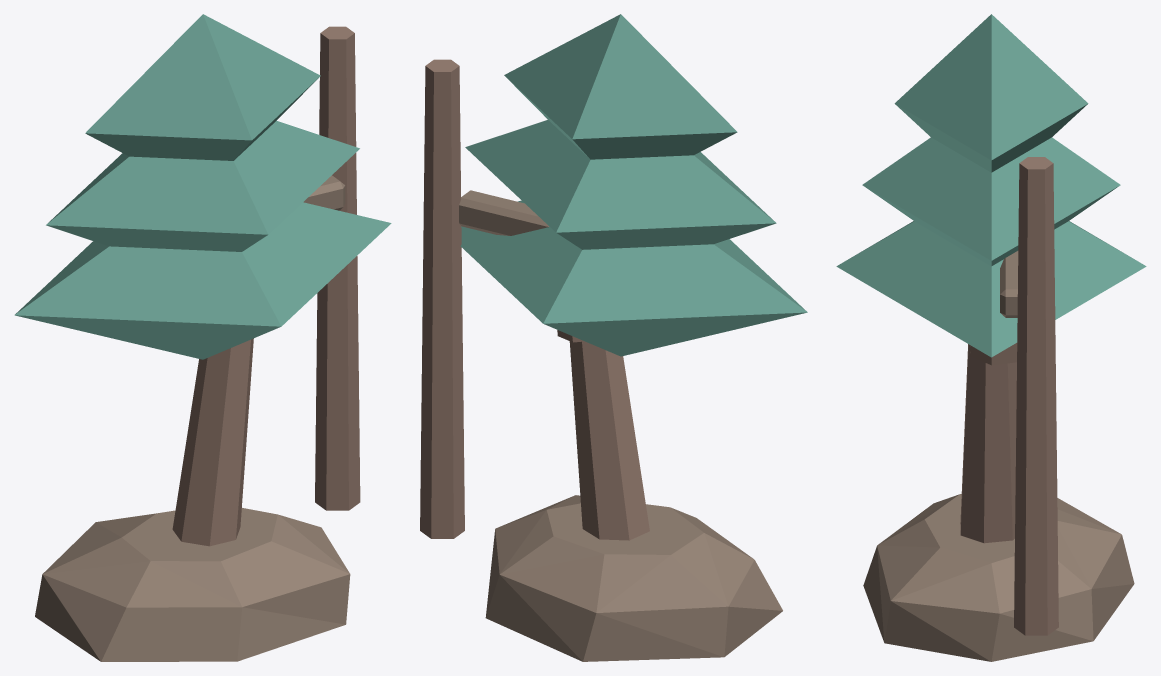
The model's file is world_pine_sapling.fbx.
The picture shows the model from 3 angles, left to right: view 1: azimuth 30°, elevation 25°; view 2: azimuth 150°, elevation 25°; view 3: azimuth 270°, elevation 25°; orthographic projection.
Visible parts, largest first — view 1: world_pine_sapling_mesh; view 2: world_pine_sapling_mesh; view 3: world_pine_sapling_mesh.
Part boxes in pixels (bbox=[...]): world_pine_sapling_mesh: bbox=[14, 14, 391, 661]; world_pine_sapling_mesh: bbox=[420, 14, 807, 661]; world_pine_sapling_mesh: bbox=[836, 14, 1146, 661].
Bounding box in the file's own units: 0.48 × 0.72 × 0.3456.
